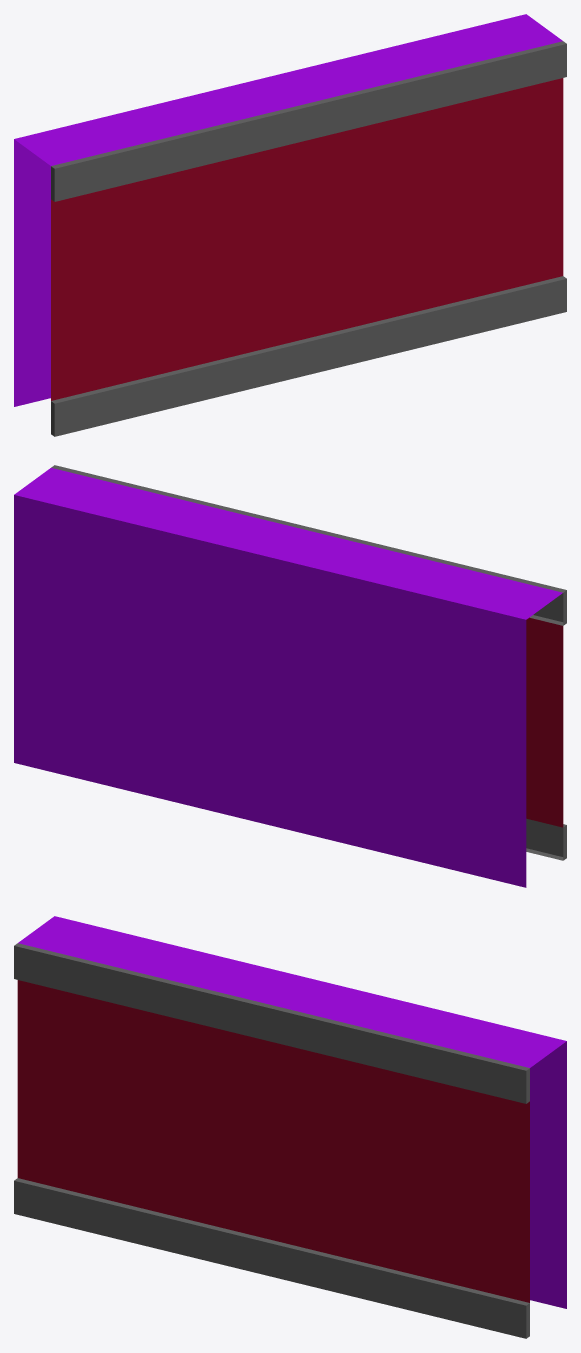
Rendered from Wall_X_01_2x1.fbx.
3 views of the same model, one above another, from view 1: azimuth 30°, elevation 25°; view 2: azimuth 150°, elevation 25°; view 3: azimuth 330°, elevation 25° (orthographic).
Visible parts, largest first — view 1: Wall_01_2x5; view 2: Wall_01_2x5; view 3: Wall_01_2x5.
Boxes of the visible parts, left/top/right/bottom form: Wall_01_2x5: left=14, top=14, right=566, bottom=436; Wall_01_2x5: left=14, top=465, right=566, bottom=887; Wall_01_2x5: left=14, top=916, right=566, bottom=1338.
Size of the model in its own units: 2 by 1 by 0.275.
